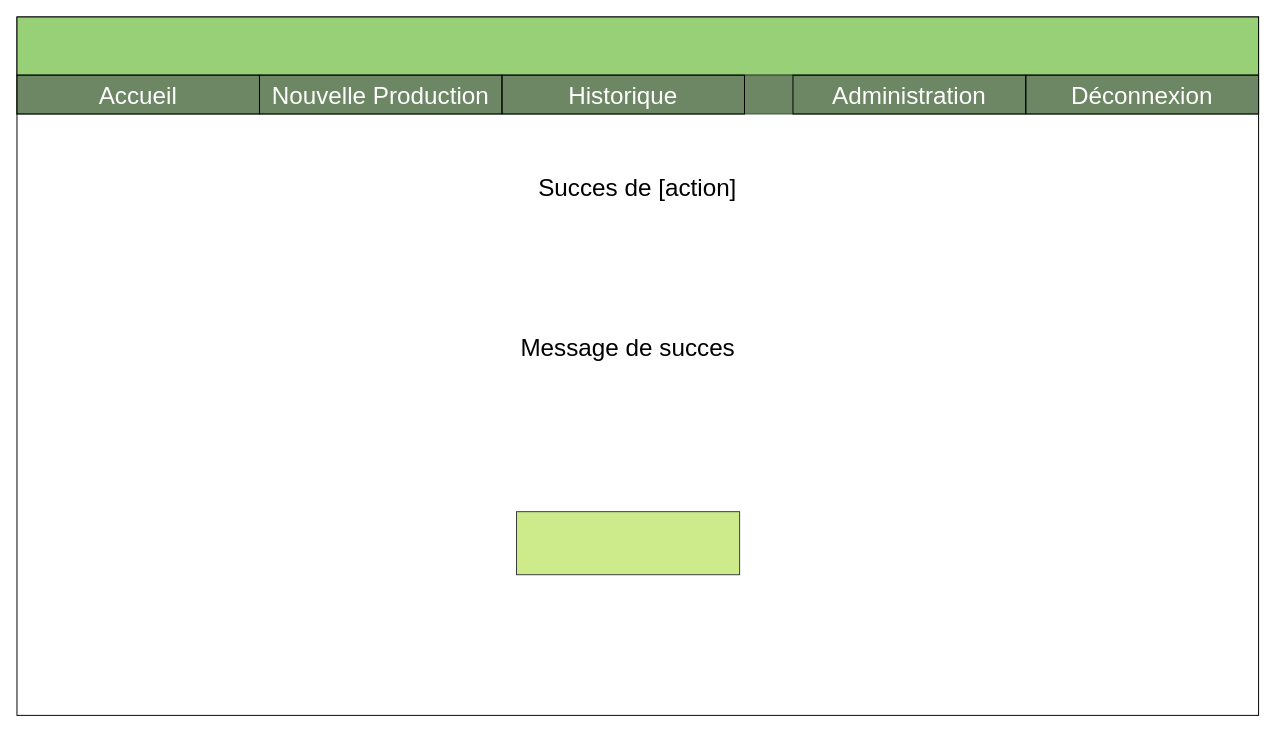
The diagram is 1276 pixels wide and 732 high, and some of its shapes have lost their labels. Here are the shapes that lost their labels. From the top down, the box of each, then its label:
(16, 16, 1259, 75): Gestion de production
(516, 511, 740, 575): Retour
